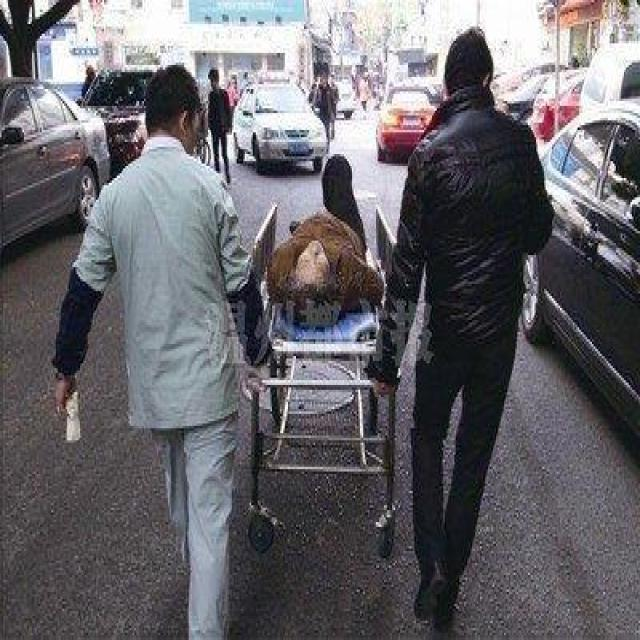fall: (261, 140, 382, 310)
nonfall: (388, 21, 557, 640), (90, 65, 254, 640), (202, 66, 236, 182)
